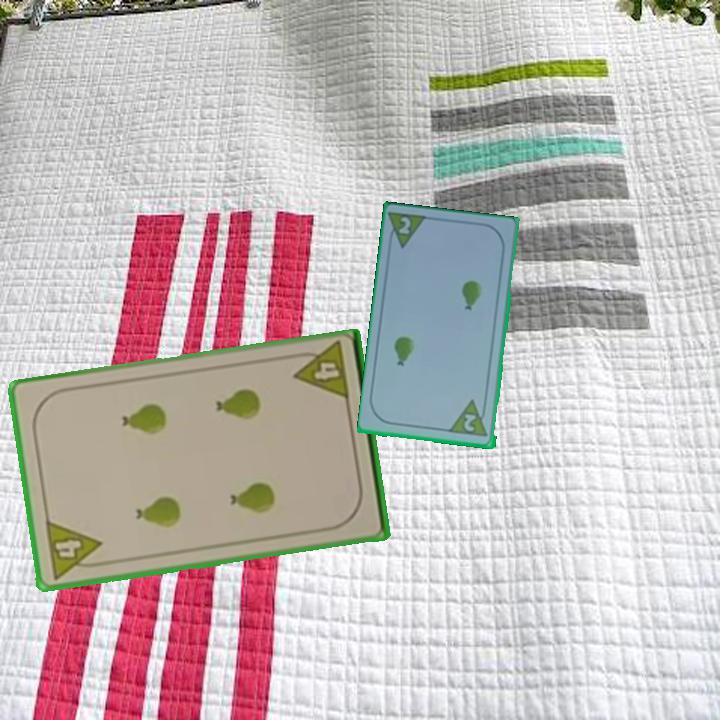2p: (385, 210, 432, 252), (448, 397, 491, 440)
4p: (41, 517, 107, 582), (288, 340, 352, 404)
